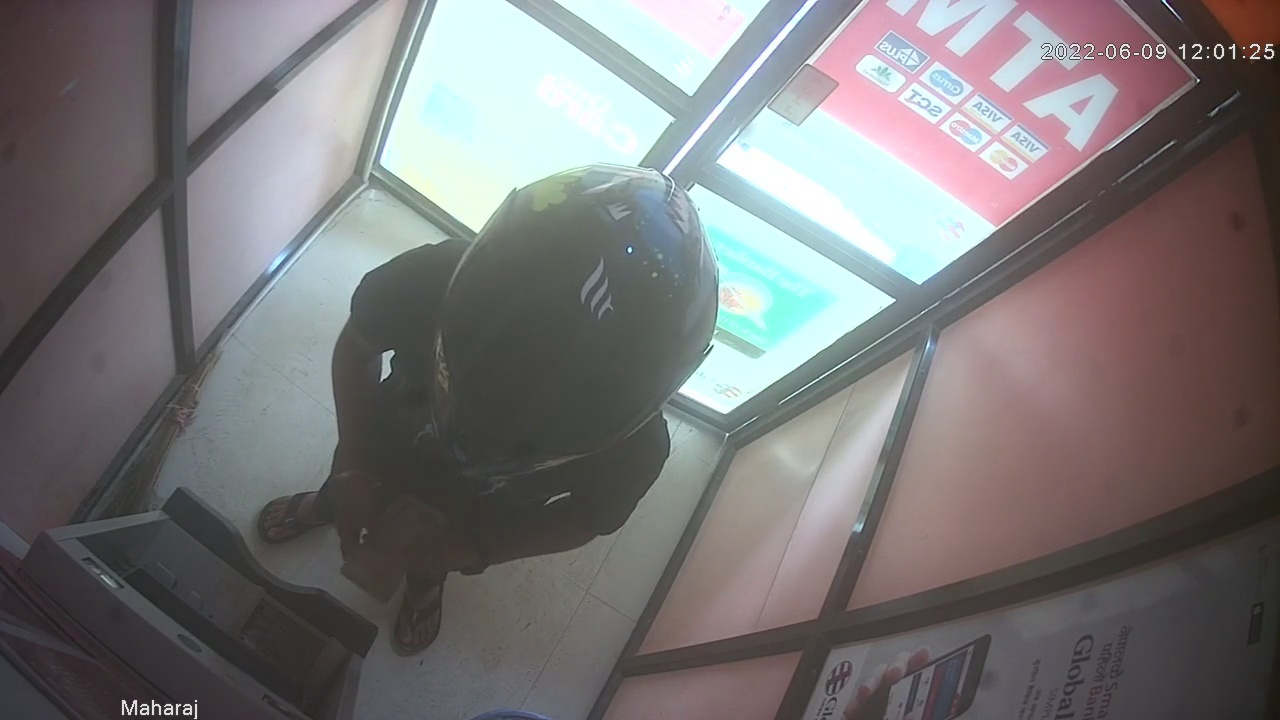helmet: (426, 160, 716, 482)
person: (254, 161, 721, 660)
